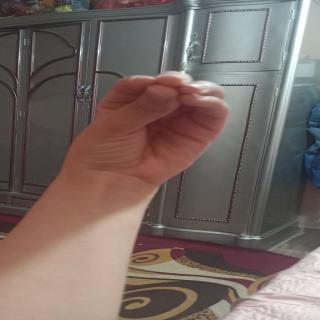HA: (66, 67, 264, 171)
